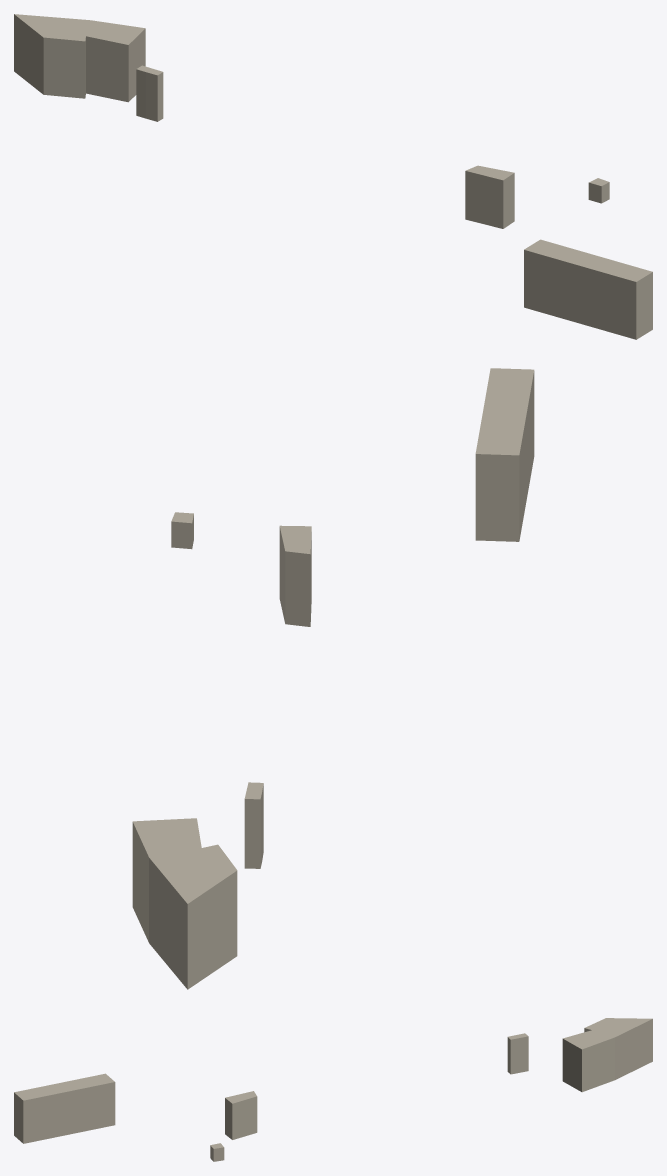
File: kalkara_66_25_mid.glb
3 views of the same model, one above another, from view 1: azimuth 30°, elevation 25°; view 2: azimuth 150°, elevation 25°; view 3: azimuth 270°, elevation 25° (orthographic). The views are drawn at different scales.
Visible parts, largest first — view 1: geometry_0; view 2: geometry_0; view 3: geometry_0.
Boxes of the visible parts, x1,y1,x2,y2 form: geometry_0: [14, 14, 652, 339]; geometry_0: [132, 368, 534, 989]; geometry_0: [14, 1018, 652, 1161].
Size of the model in its own units: 71.19 by 13.63 by 173.
